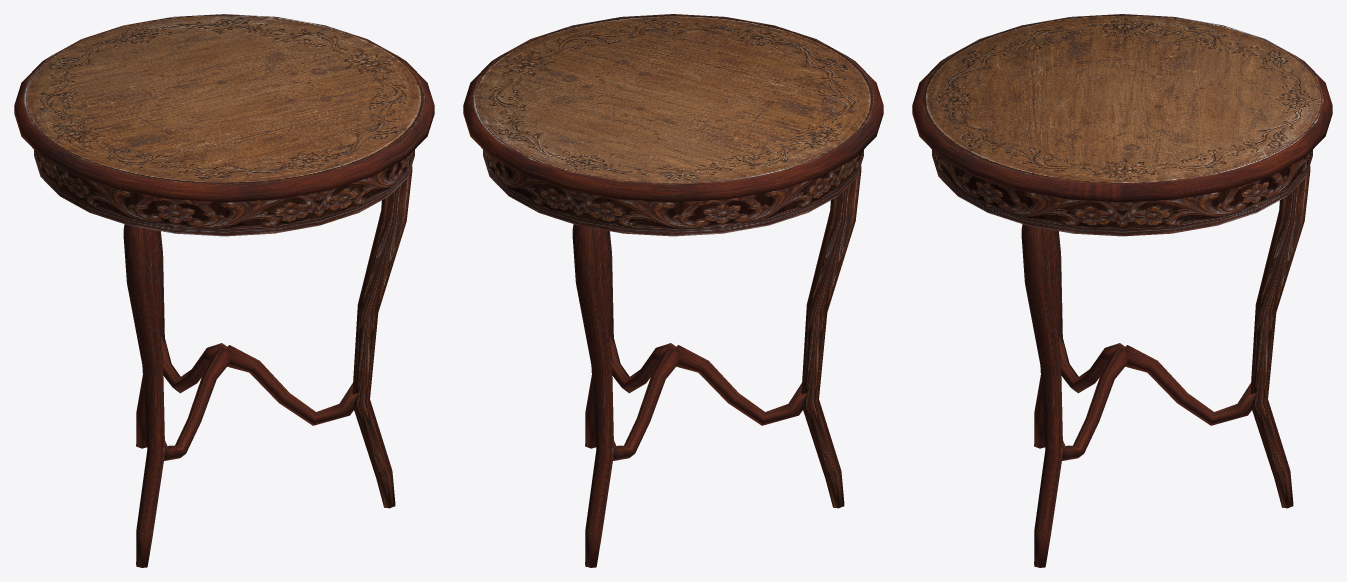
Rendered from Antique_Round_Table.glb.
3 views of the same model, side by side, from view 1: azimuth 30°, elevation 25°; view 2: azimuth 150°, elevation 25°; view 3: azimuth 270°, elevation 25° (orthographic).
Parts seen in each view (by area): view 1: Antique Round Table; view 2: Antique Round Table; view 3: Antique Round Table.
Boxes of the visible parts, left/top/right/bottom form: Antique Round Table: left=14, top=14, right=434, bottom=567; Antique Round Table: left=463, top=14, right=883, bottom=567; Antique Round Table: left=912, top=14, right=1332, bottom=567.
Bounding box in the file's own units: 0.7 × 0.7475 × 0.7.
Materials: 1 (1 with a texture image).
